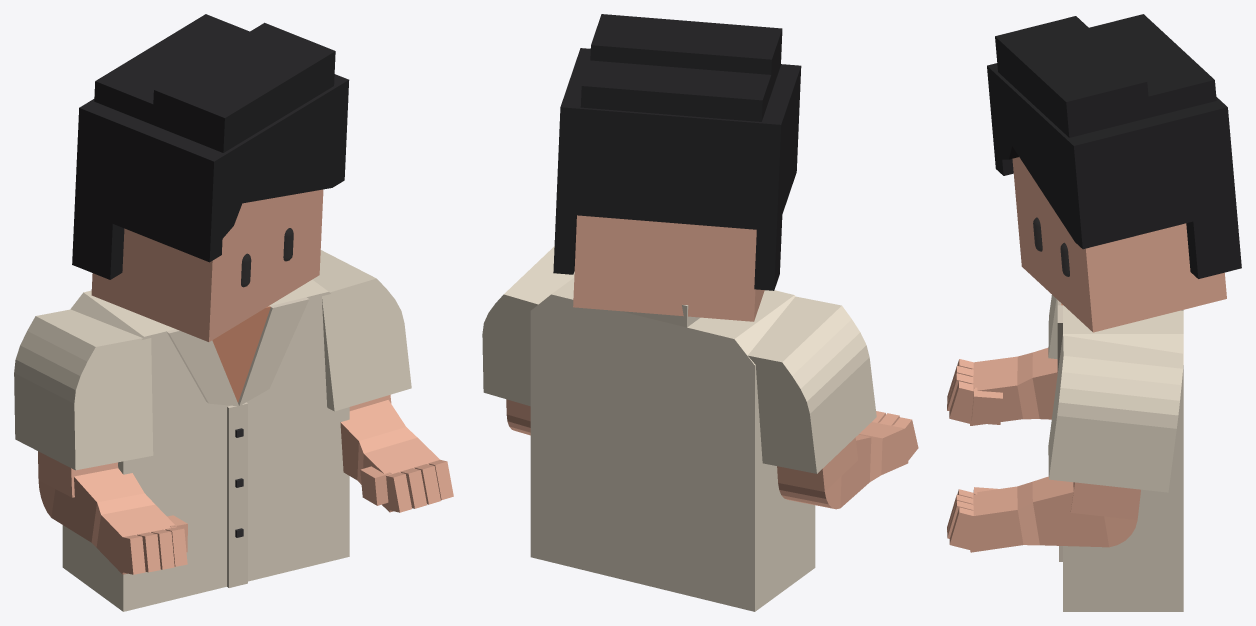
File: mascot.glb
The picture shows the model from 3 angles, left to right: view 1: azimuth 30°, elevation 25°; view 2: azimuth 150°, elevation 25°; view 3: azimuth 270°, elevation 25°; orthographic projection.
Bounding box in the file's own units: 2.11 × 3.08 × 1.61.
